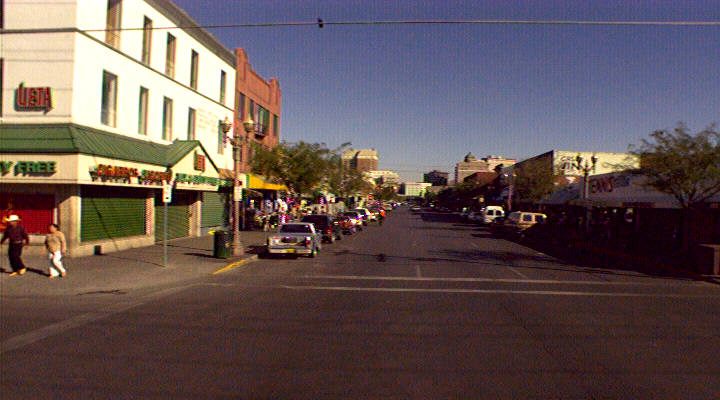Ramp: (1, 255, 231, 303)
